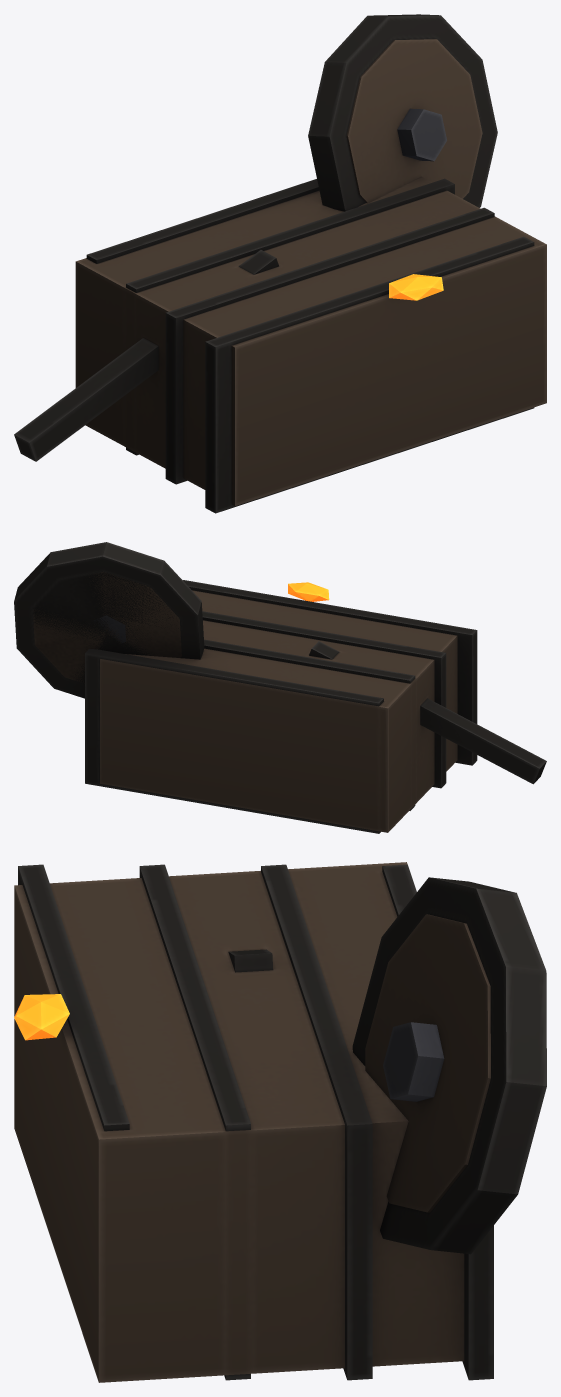
File: rock_wagon.glb
The picture shows the model from 3 angles, top to bottom: view 1: azimuth 30°, elevation 25°; view 2: azimuth 150°, elevation 25°; view 3: azimuth 270°, elevation 25°; orthographic projection. The views are drawn at different scales.
Visible parts, largest first — view 1: rock_wagon; view 2: rock_wagon; view 3: rock_wagon.
Boxes of the visible parts, bbox=[...] form: rock_wagon: bbox=[14, 14, 546, 513]; rock_wagon: bbox=[14, 542, 546, 833]; rock_wagon: bbox=[14, 862, 546, 1382].
Size of the model in its own units: 1.59 by 0.8179 by 0.8339.
Materials: 1 (1 with a texture image).
